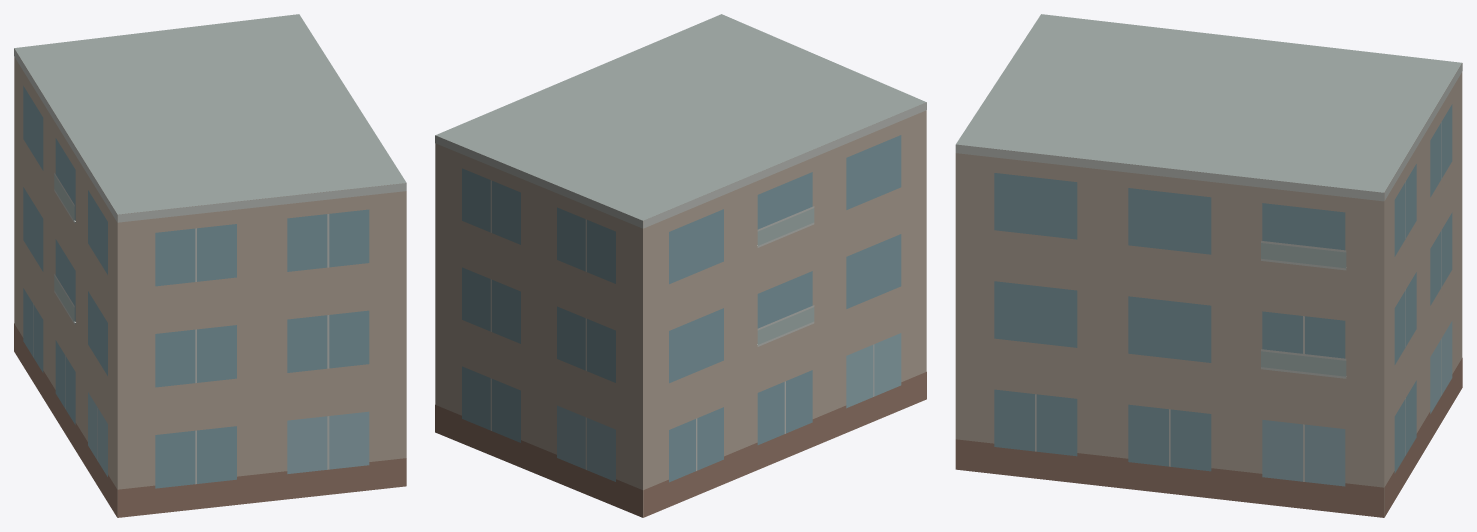
Rendered from survey-upis-32803022.glb.
The picture shows the model from 3 angles, left to right: view 1: azimuth 30°, elevation 25°; view 2: azimuth 150°, elevation 25°; view 3: azimuth 270°, elevation 25°; orthographic projection. The views are drawn at different scales.
Visible parts, largest first — view 1: survey-upis-32803022.tmp; view 2: survey-upis-32803022.tmp; view 3: survey-upis-32803022.tmp.
Boxes of the visible parts, x1=… form: survey-upis-32803022.tmp: x1=14, y1=14, x2=406, y2=517; survey-upis-32803022.tmp: x1=435, y1=14, x2=926, y2=517; survey-upis-32803022.tmp: x1=955, y1=14, x2=1462, y2=517.
Size of the model in its own units: 10.8 by 9.15 by 12.94.
